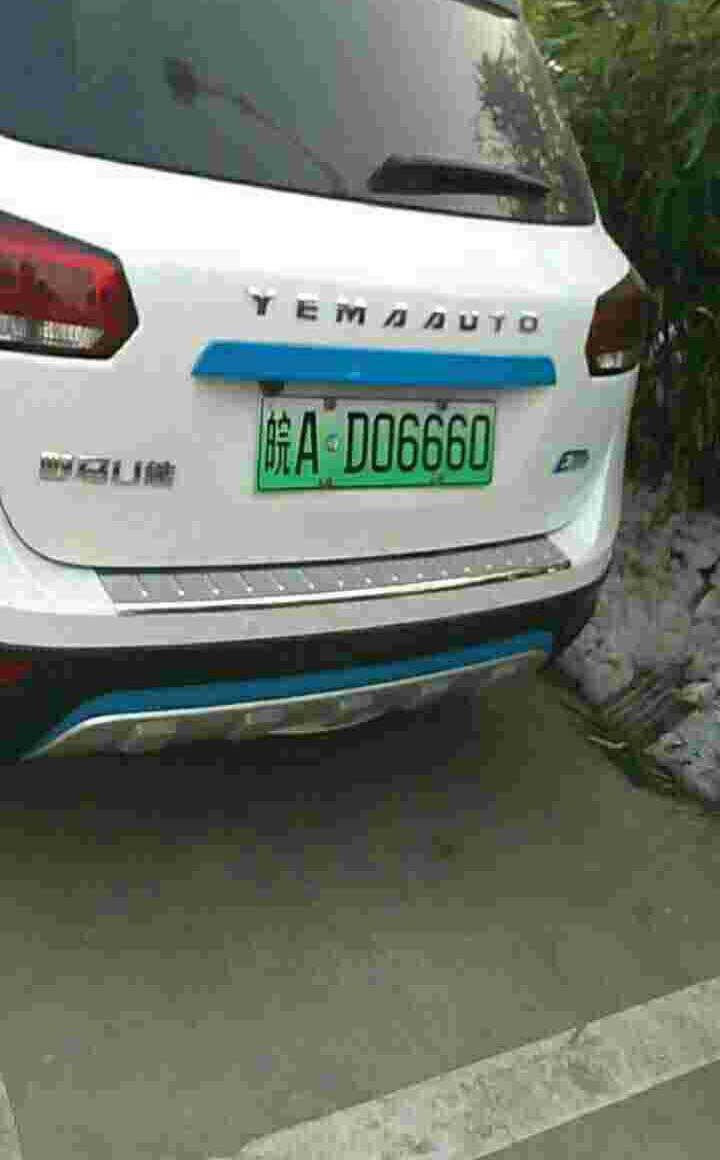car_green: (253, 394, 503, 494)
